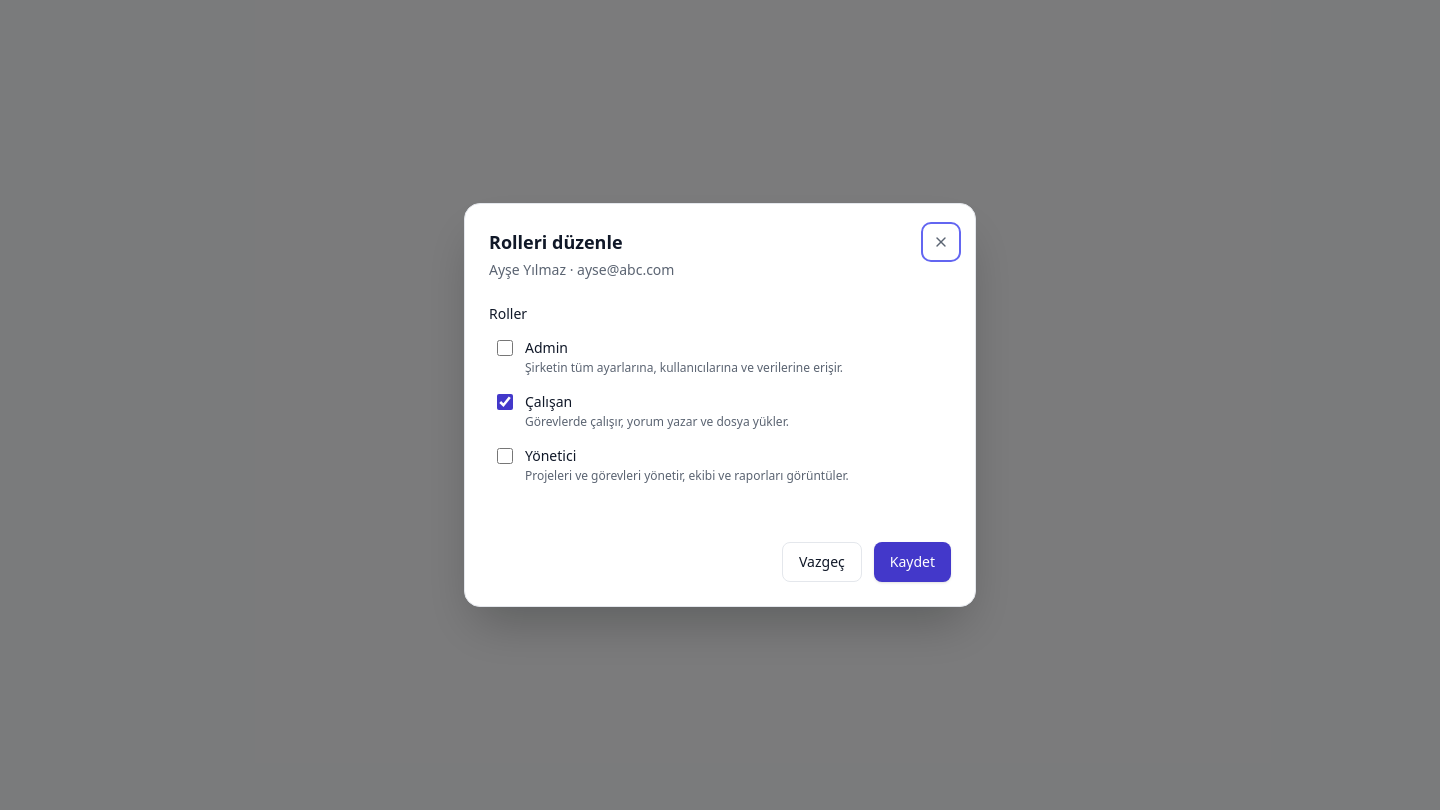
Test case: EditRolesDialog › shows why the change was refused
The image size is (1440, 810).
Click the button "Kaydet" at (912,562), box [874,542,951,582]
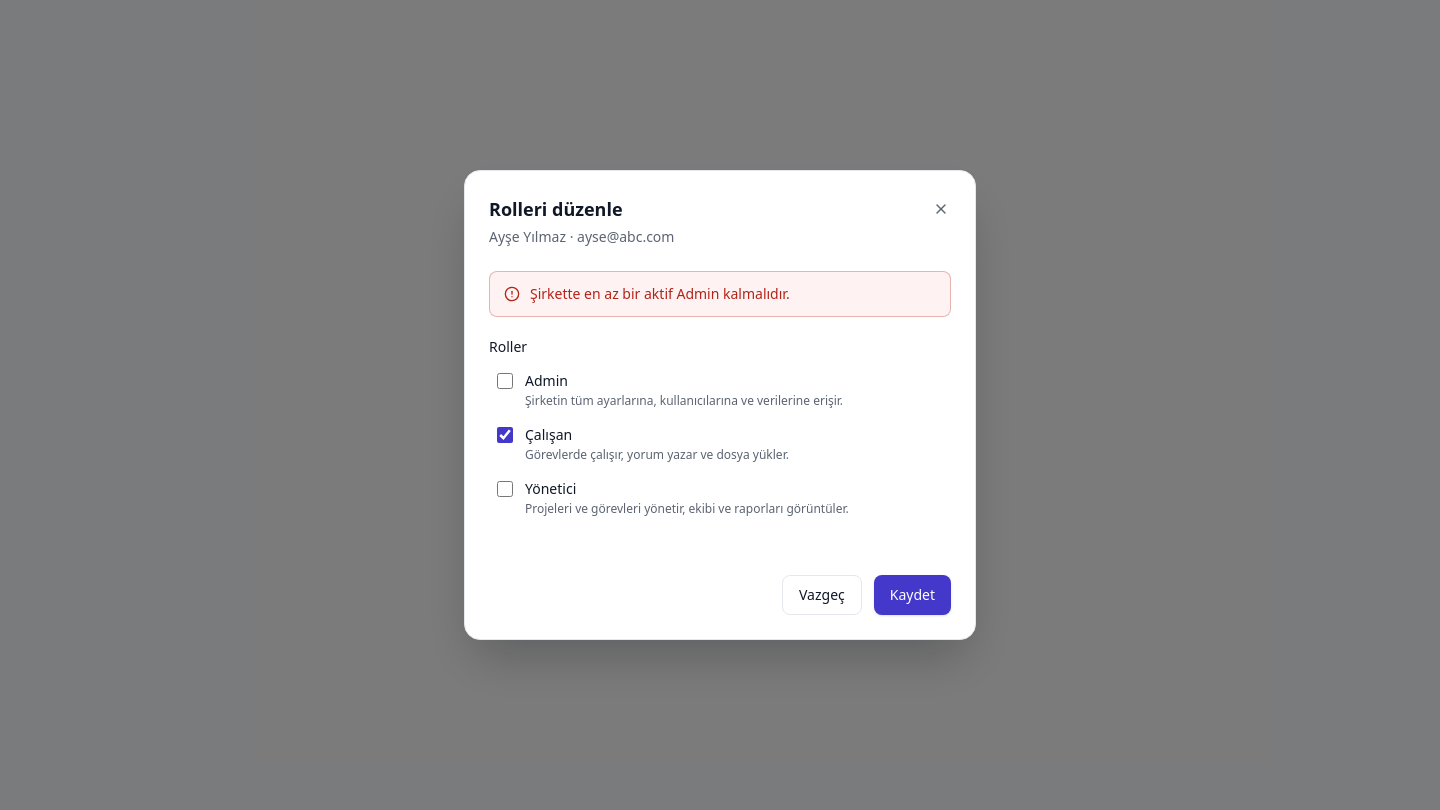
Now the text "Şirkette en az bir aktif Admin kalmalıdır." is shown, box [530,284,790,304]
